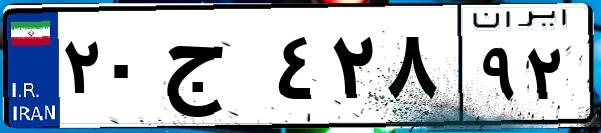0: (110, 28, 158, 98)
2: (330, 28, 385, 110), (57, 26, 110, 100), (525, 38, 570, 115)
4: (270, 28, 330, 110)
8: (385, 28, 445, 110)
9: (475, 38, 525, 113)
ج: (158, 20, 270, 120)
